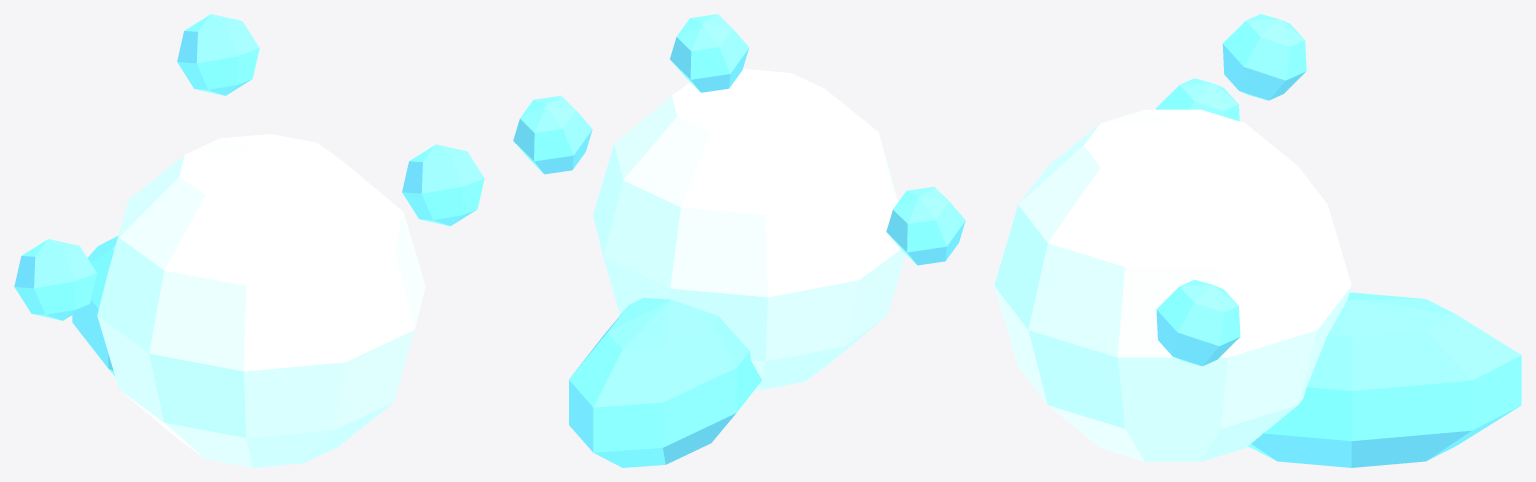
The model's file is elf_wisp.glb.
The picture shows the model from 3 angles, left to right: view 1: azimuth 30°, elevation 25°; view 2: azimuth 150°, elevation 25°; view 3: azimuth 270°, elevation 25°; orthographic projection. The views are drawn at different scales.
Visible parts, largest first — view 1: Core, ArmGlow, Tail; view 2: Core, Tail, ArmGlow; view 3: Core, Tail, ArmGlow.
Part boxes in pixels (x1,y1,x2,y2): Core: (97, 134, 425, 467); ArmGlow: (14, 14, 484, 320); Tail: (72, 236, 118, 376); Core: (593, 68, 905, 390); Tail: (569, 297, 761, 467); ArmGlow: (513, 14, 965, 265); Core: (994, 109, 1351, 461); Tail: (1248, 292, 1521, 467); ArmGlow: (1156, 14, 1306, 366).
Bounding box in the file's own units: 0.372 × 0.3273 × 0.3541.
